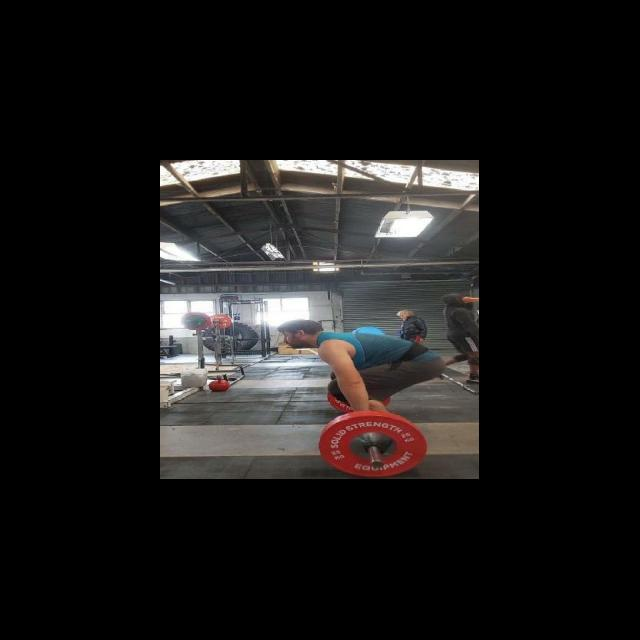barbell: (318, 414, 430, 479)
